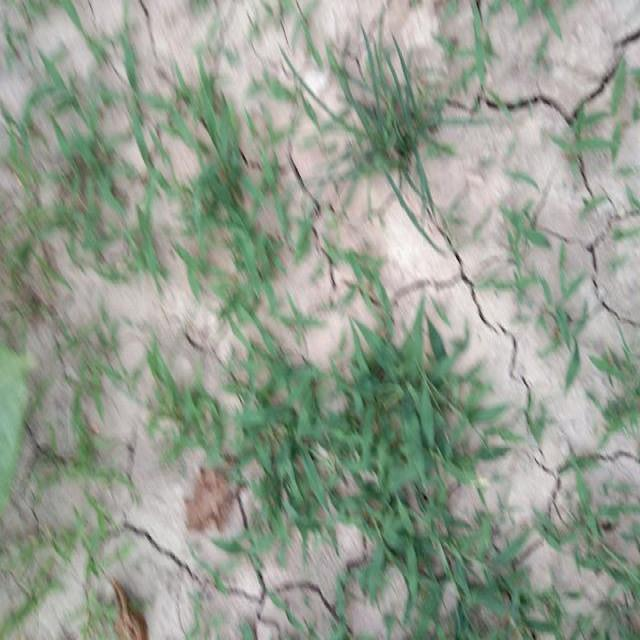weed: (238, 328, 516, 592), (145, 78, 291, 308), (318, 49, 458, 219)
